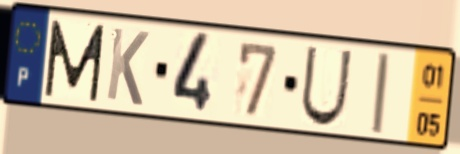4: (170, 28, 220, 119)
7: (237, 40, 279, 119)
I: (368, 50, 392, 136)
K: (103, 24, 152, 110)
M: (42, 16, 108, 104)
U: (297, 43, 355, 129)
